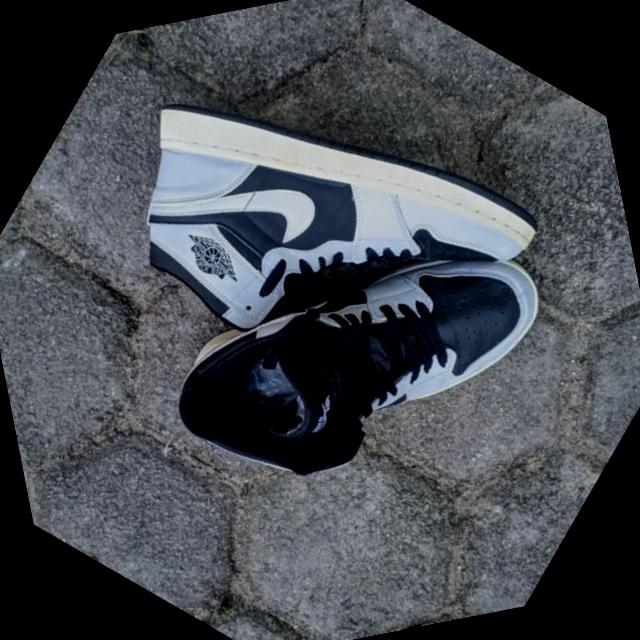nike_fake_jordan: (43, 0, 589, 498), (112, 102, 603, 596)
